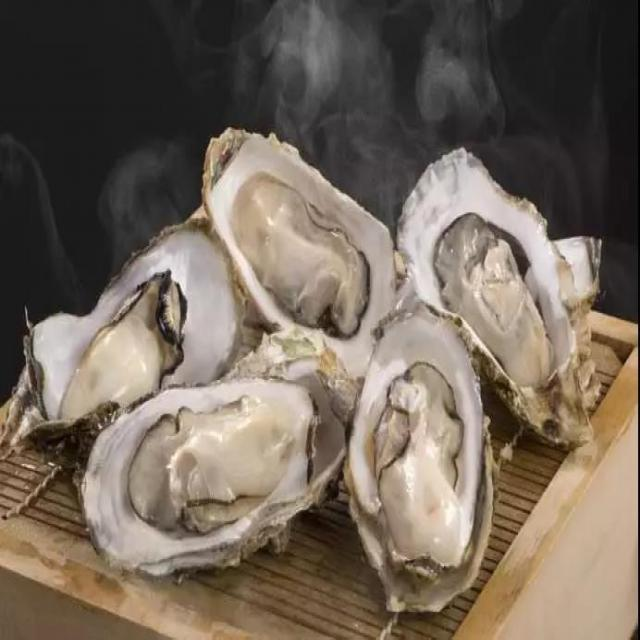Oyster-Open: (401, 152, 629, 467), (74, 368, 339, 594), (343, 310, 495, 616), (31, 209, 240, 426), (201, 128, 396, 340)
